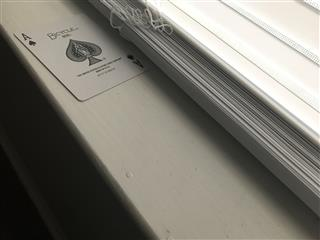AceOfSpades: (12, 12, 149, 101)
